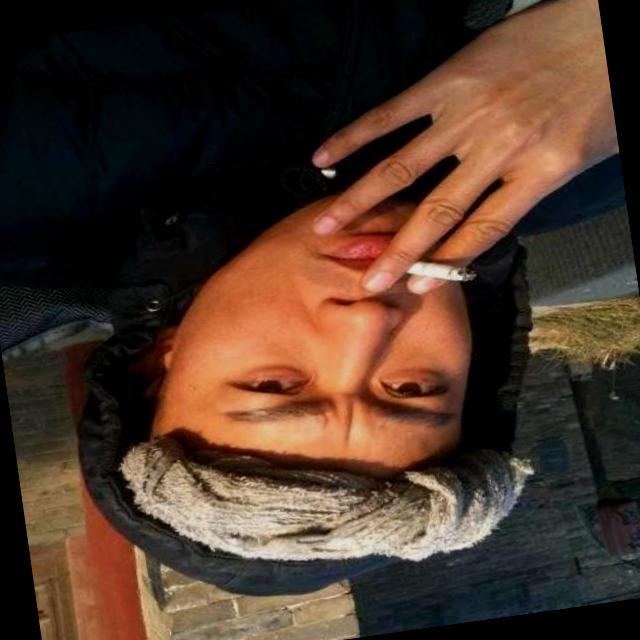cigarette: (411, 256, 481, 293)
